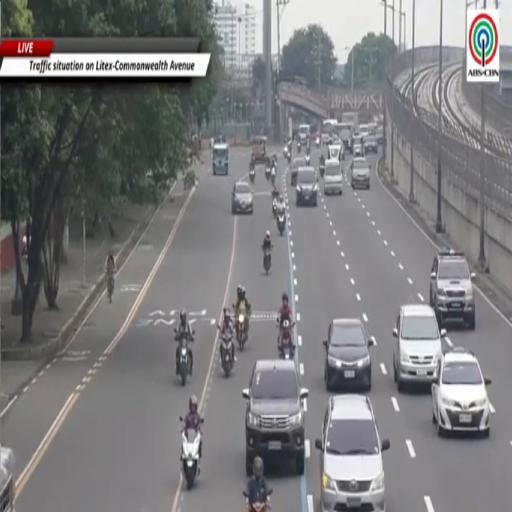car: (315, 394, 390, 511), (242, 360, 308, 475), (432, 347, 491, 436), (393, 304, 446, 392), (323, 318, 374, 391), (430, 250, 475, 330), (296, 167, 318, 205), (232, 182, 253, 214), (324, 158, 342, 195), (351, 156, 370, 189), (290, 156, 308, 186), (328, 142, 344, 162), (364, 135, 378, 154), (350, 132, 362, 154), (376, 126, 384, 146), (353, 144, 363, 157), (358, 124, 368, 134)
jeepney: (0, 446, 14, 511), (213, 143, 229, 174), (252, 136, 267, 164)
motorcycle: (182, 429, 201, 489), (218, 326, 233, 377), (277, 318, 295, 359), (176, 335, 190, 386), (249, 489, 272, 511), (236, 311, 247, 350), (263, 249, 271, 275), (280, 345, 293, 360), (277, 213, 285, 235), (271, 166, 276, 186), (249, 168, 255, 184), (272, 199, 277, 217), (265, 166, 270, 180), (319, 164, 324, 178), (305, 154, 311, 165), (286, 152, 291, 164), (283, 144, 288, 156), (316, 137, 320, 148), (297, 142, 301, 153)
truck: (342, 111, 359, 130)
